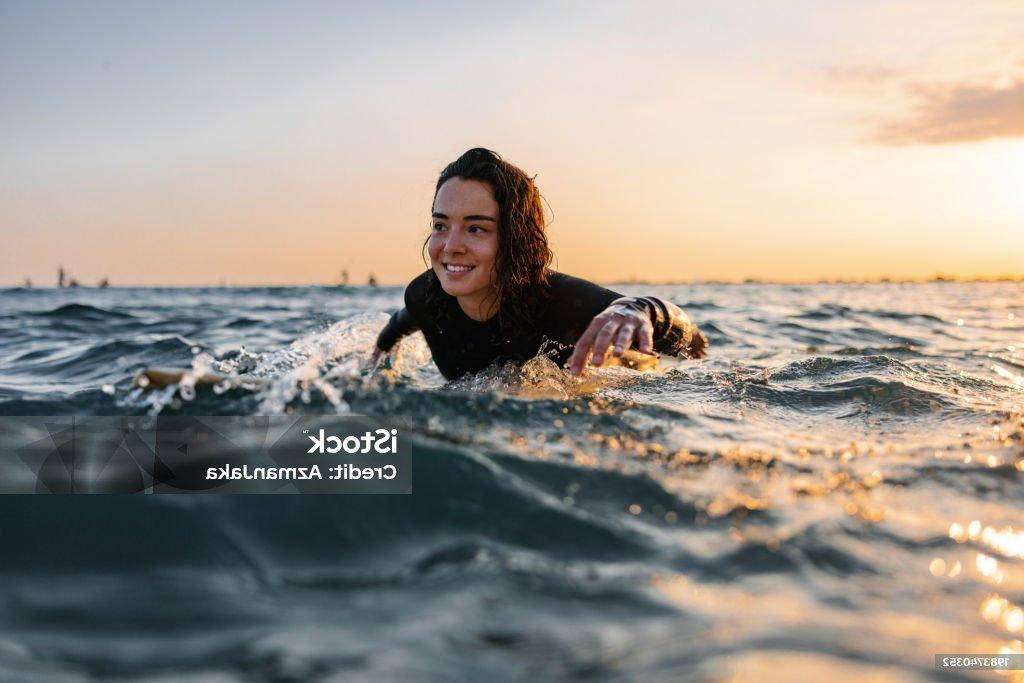Swimming: (282, 73, 777, 401)
